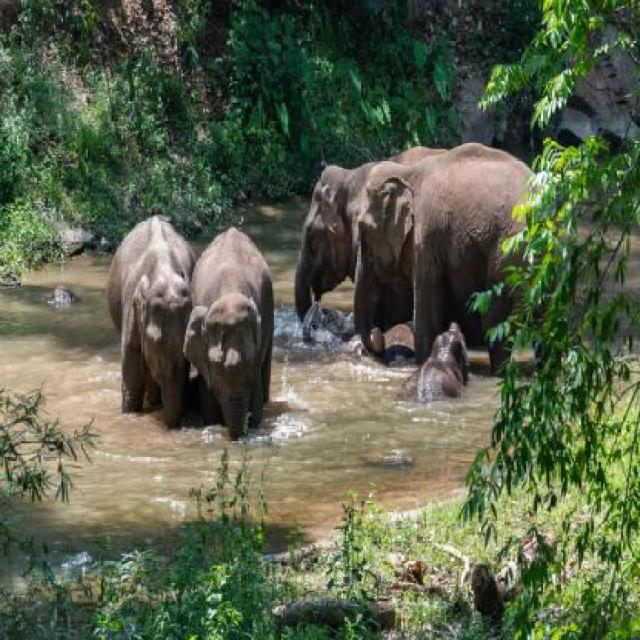Elephant: (348, 140, 574, 377), (101, 216, 202, 435), (188, 218, 283, 448)
